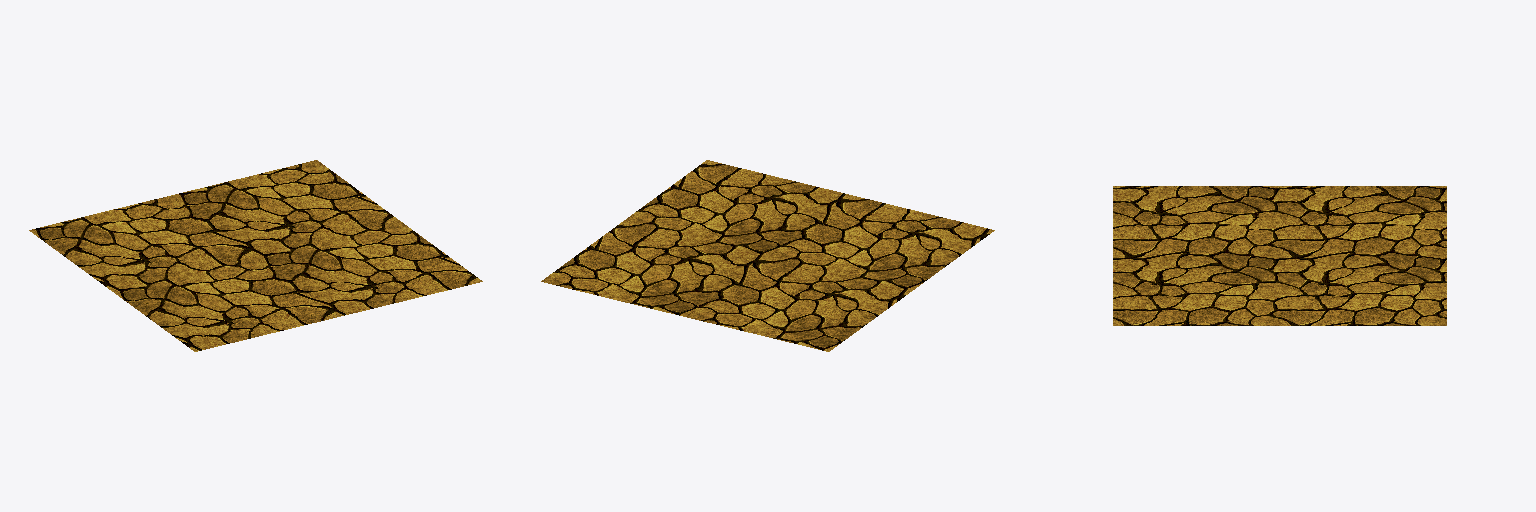
3 renders of one model, left to right at view 1: azimuth 30°, elevation 25°; view 2: azimuth 150°, elevation 25°; view 3: azimuth 270°, elevation 25°, orthographic.
Parts seen in each view (by area): view 1: mosaic_floor_x2; view 2: mosaic_floor_x2; view 3: mosaic_floor_x2.
Part boxes in pixels (x1,y1,x2,y2): mosaic_floor_x2: (29,160,482,351); mosaic_floor_x2: (541,160,994,351); mosaic_floor_x2: (1113,186,1446,325).
Bounding box in the file's own units: 200 × 0 × 200.
1 materials, 1 textured.